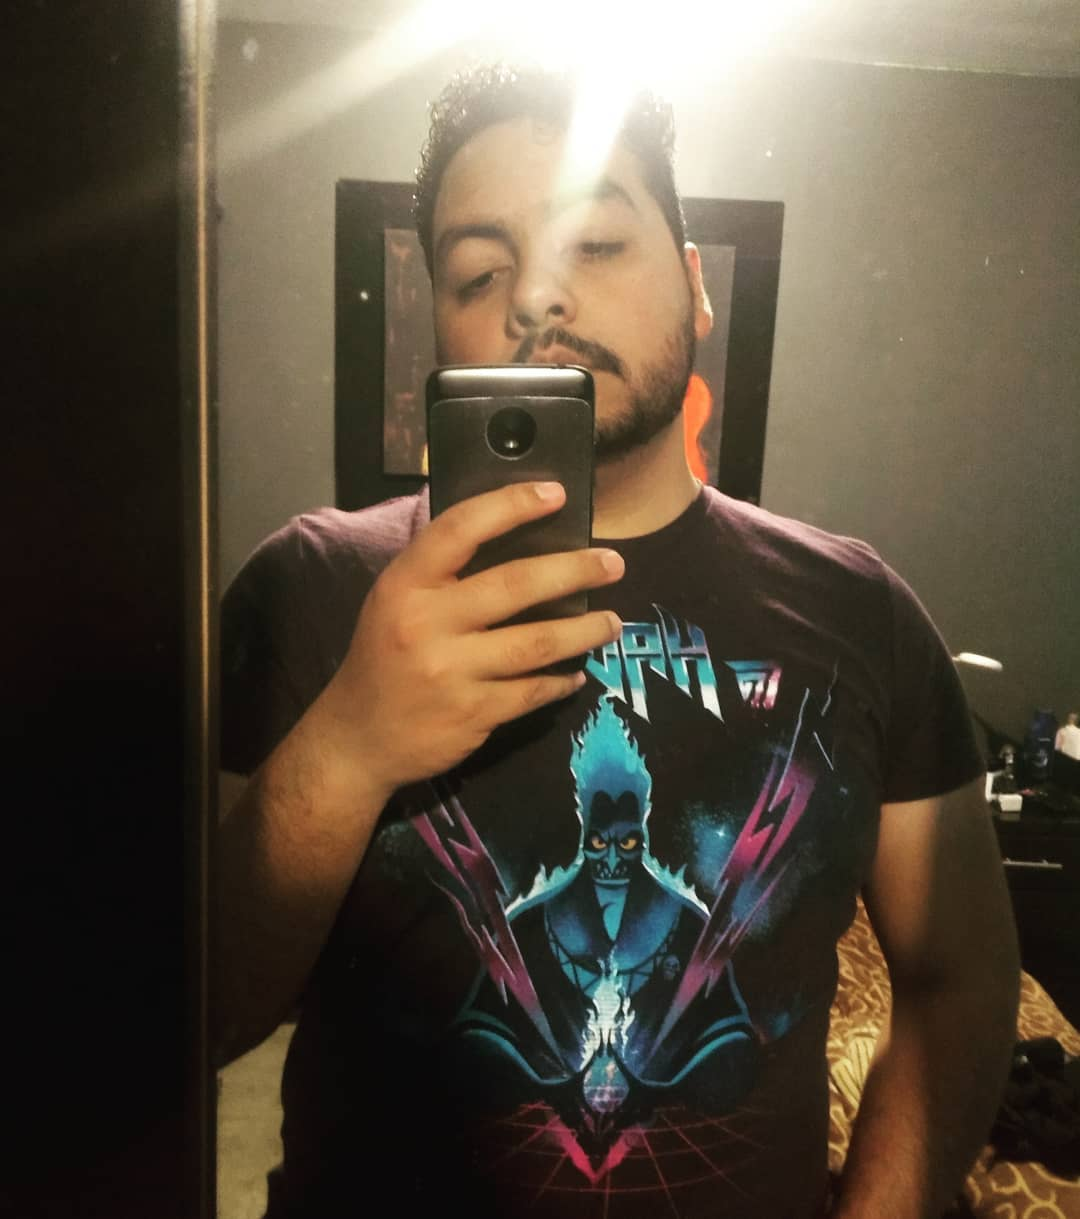Yoshi: (269, 50, 980, 993)
